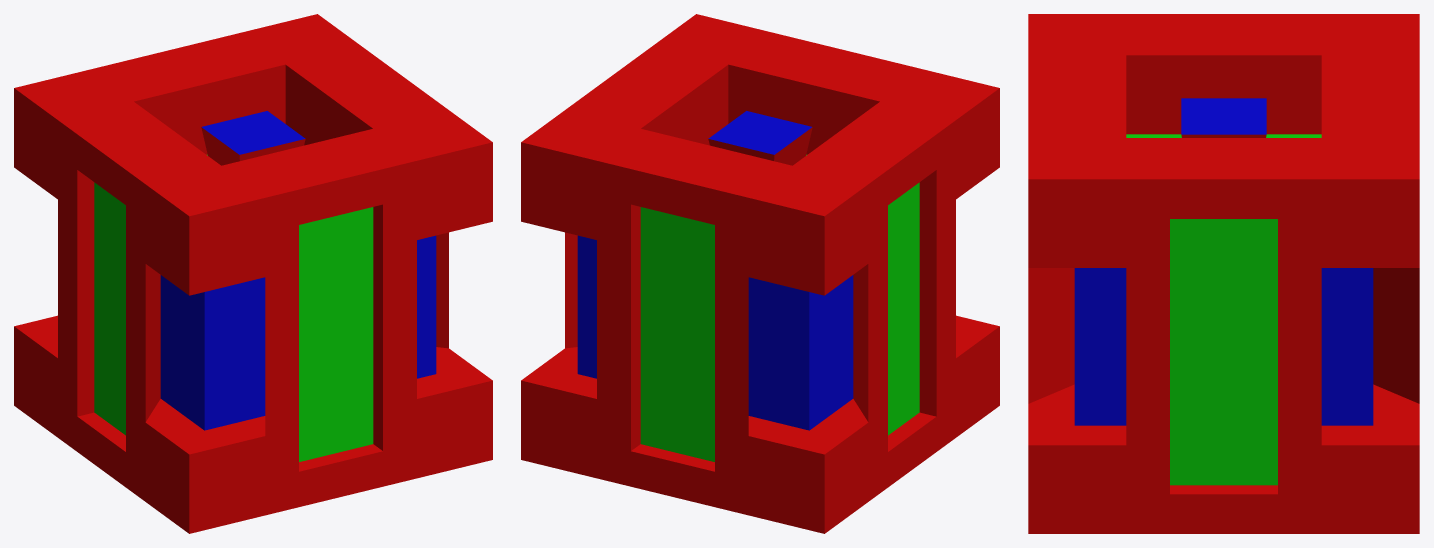
Rendered from AttractionBox.FBX.
3 renders of one model, left to right at view 1: azimuth 30°, elevation 25°; view 2: azimuth 150°, elevation 25°; view 3: azimuth 270°, elevation 25°, orthographic. The views are drawn at different scales.
Parts seen in each view (by area): view 1: Box001; view 2: Box001; view 3: Box001.
Part boxes in pixels (x1,y1,x2,y2): Box001: (14, 14, 492, 533); Box001: (521, 14, 999, 533); Box001: (1028, 14, 1419, 533).
Bounding box in the file's own units: 10 × 10 × 10.
